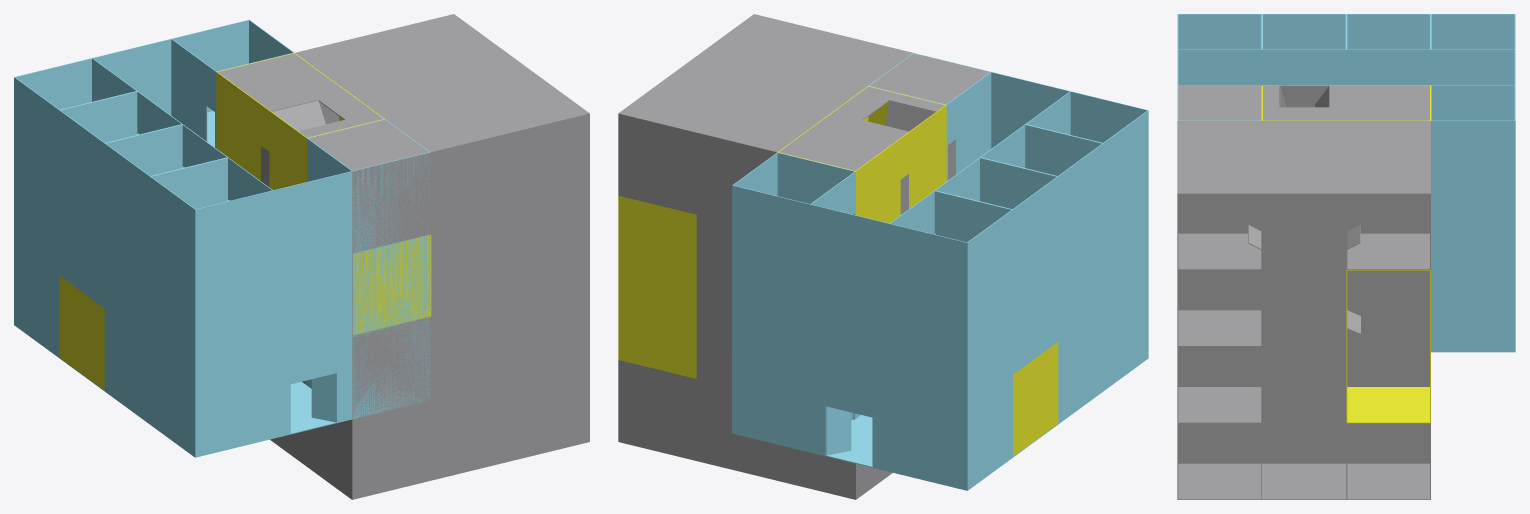
The model's file is 第七组.glb.
3 renders of one model, left to right at view 1: azimuth 30°, elevation 25°; view 2: azimuth 150°, elevation 25°; view 3: azimuth 270°, elevation 25°, orthographic. The views are drawn at different scales.
Bounding box in the file's own units: 0.0252 × 0.02 × 0.02.
